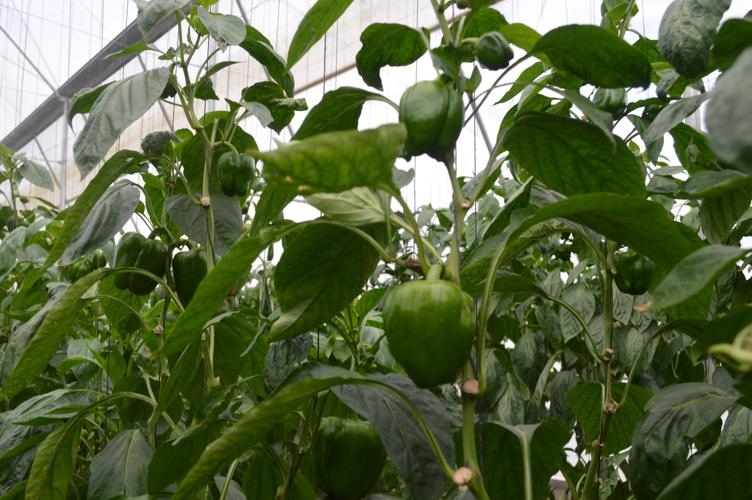BellPepper: (378, 280, 475, 386), (303, 414, 391, 494), (392, 82, 466, 155), (108, 235, 163, 295), (173, 249, 213, 303), (213, 154, 257, 203), (473, 34, 517, 74)
